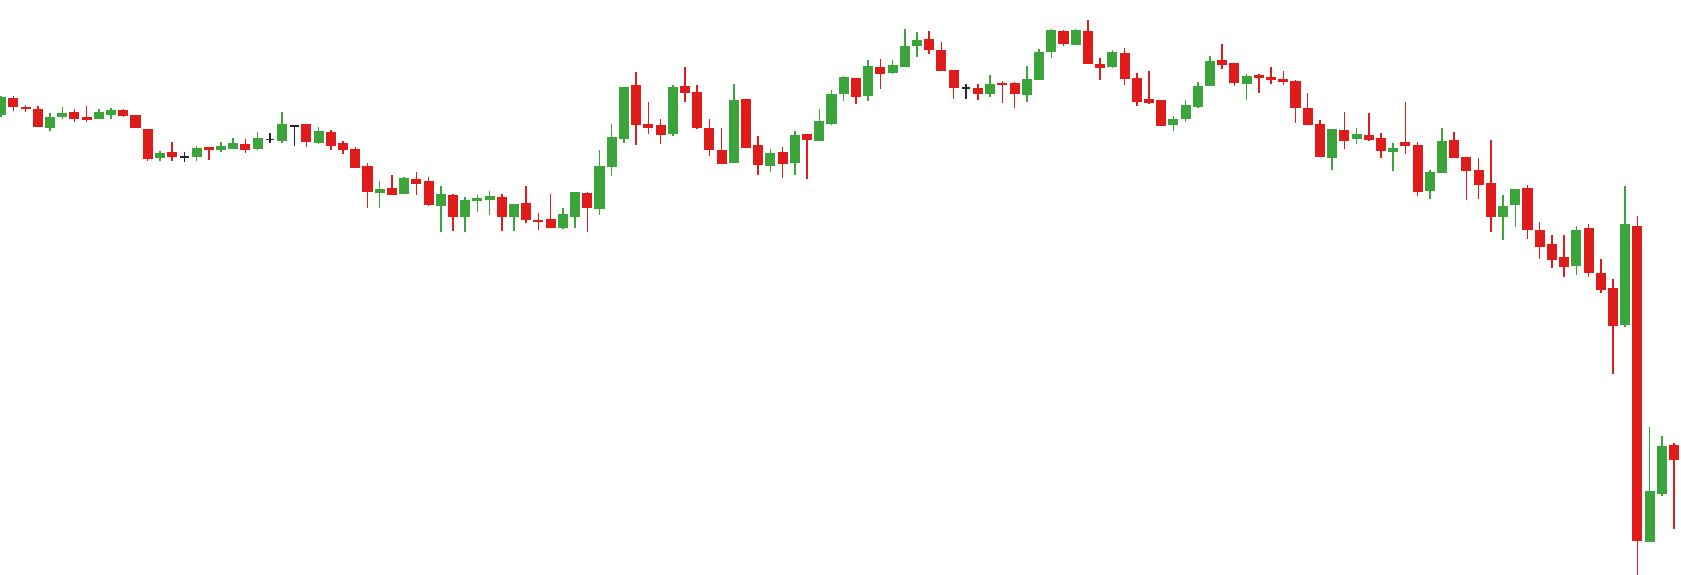sell: (618, 63, 691, 132)
